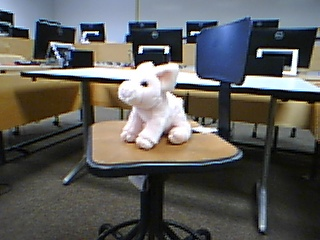piggy: (117, 61, 192, 151)
